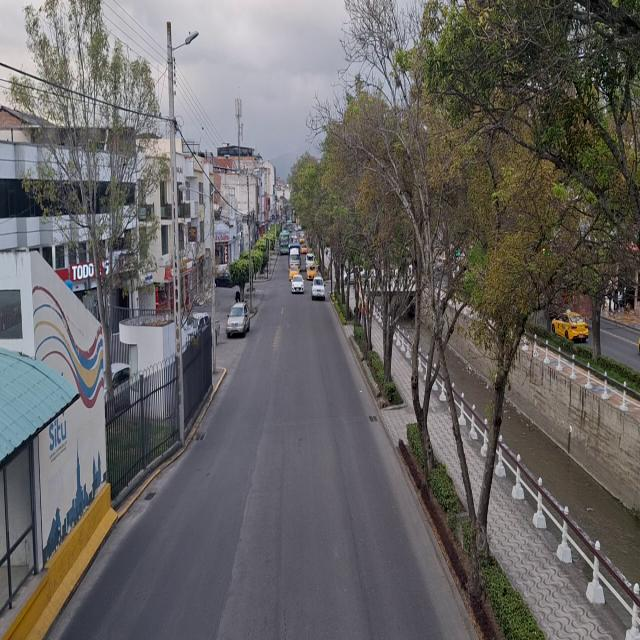BUS: (280, 232, 289, 254)
SED: (551, 312, 590, 342)
TRUCK: (289, 246, 300, 266)
